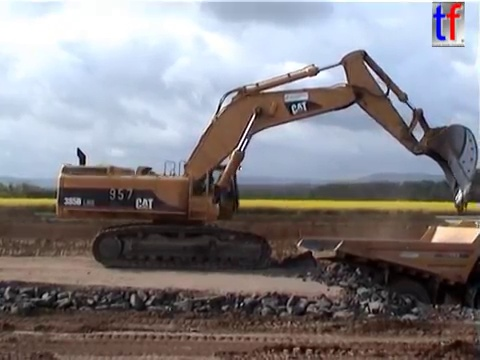excavator: (52, 46, 480, 273)
truck: (294, 214, 480, 332)
